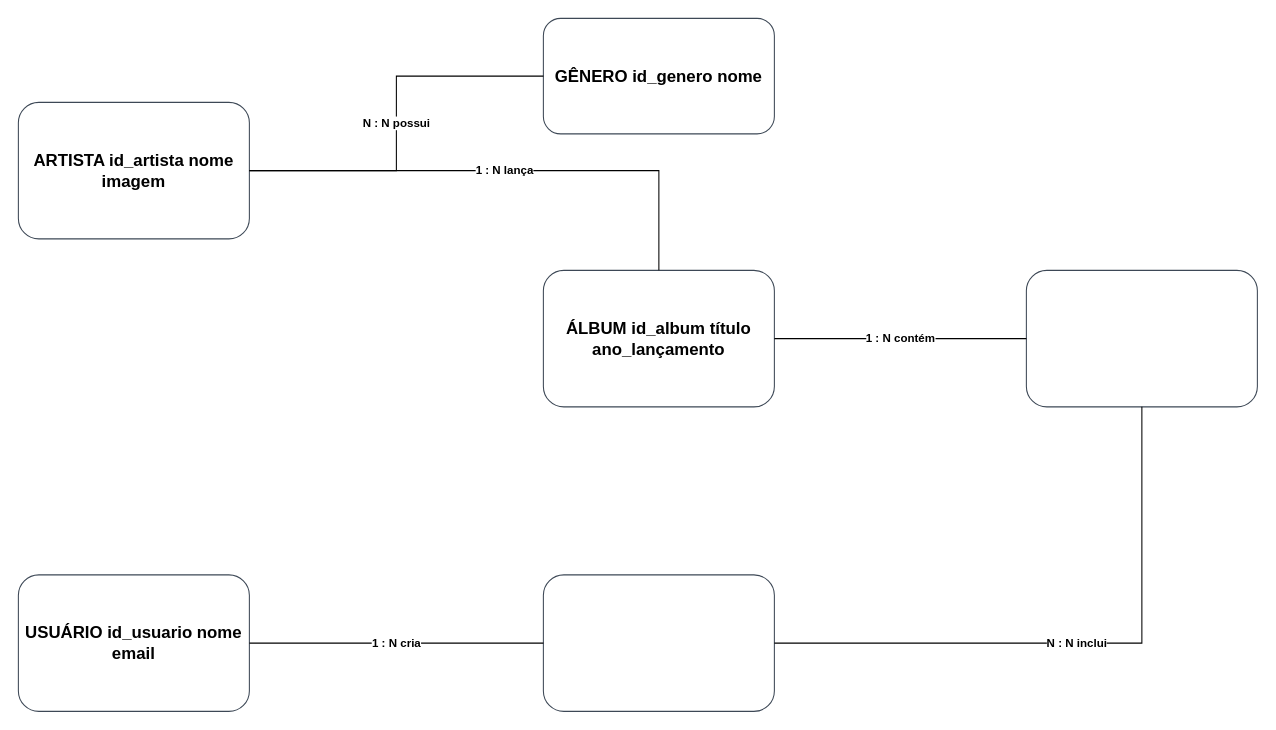
Some shapes in this 1276 by 730 pixel diagram are drawn without their labels. Each missing label, with the box of its shape:
MÚSICA id_musica título link_spotify: (1025, 269, 1257, 407)
PLAYLIST id_playlist nome descrição: (542, 574, 774, 711)
